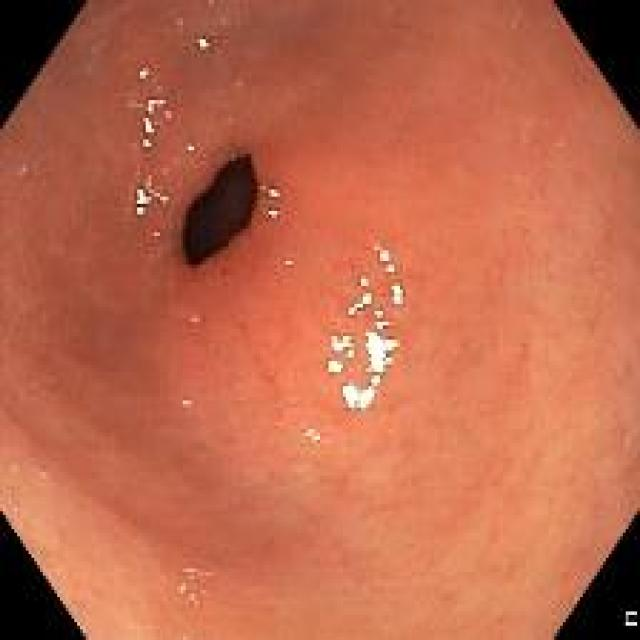bubbles: (508, 12, 521, 34)
contrast: (184, 154, 258, 268)
specularity: (362, 327, 401, 376), (342, 383, 376, 409), (332, 332, 357, 360), (345, 292, 374, 316), (325, 357, 345, 374), (136, 187, 148, 214), (374, 305, 388, 327), (145, 97, 165, 112), (391, 281, 402, 305), (142, 116, 154, 134), (268, 206, 280, 217), (379, 249, 390, 261), (268, 187, 279, 197), (198, 38, 208, 49), (141, 138, 151, 149), (371, 373, 379, 386), (384, 263, 394, 273), (359, 275, 367, 287), (164, 110, 172, 119), (138, 70, 147, 76), (159, 197, 168, 203)
